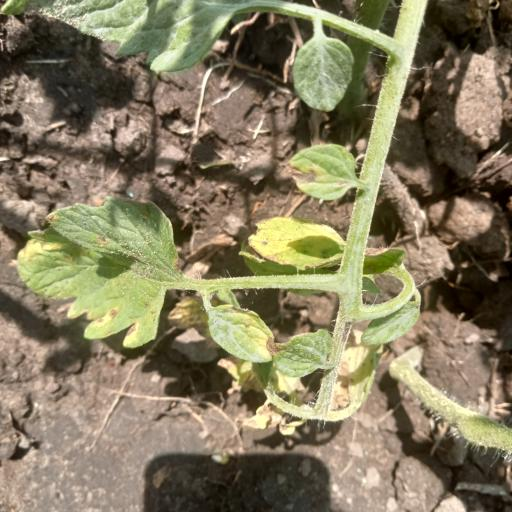Tomato_Brown_Spots: (16, 196, 180, 350)
